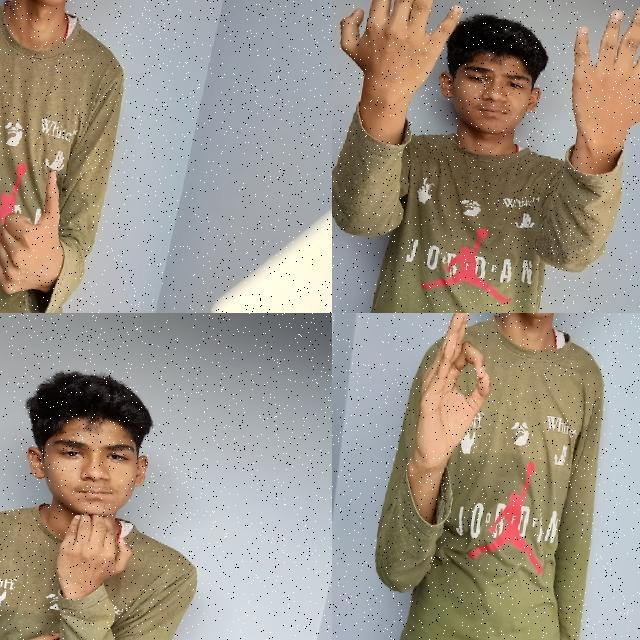Chin Flick: (0, 358, 180, 613)
Moutza: (332, 0, 475, 131), (540, 0, 640, 183)
Okay: (397, 313, 519, 472)
Thumbs Up: (0, 157, 80, 305)
